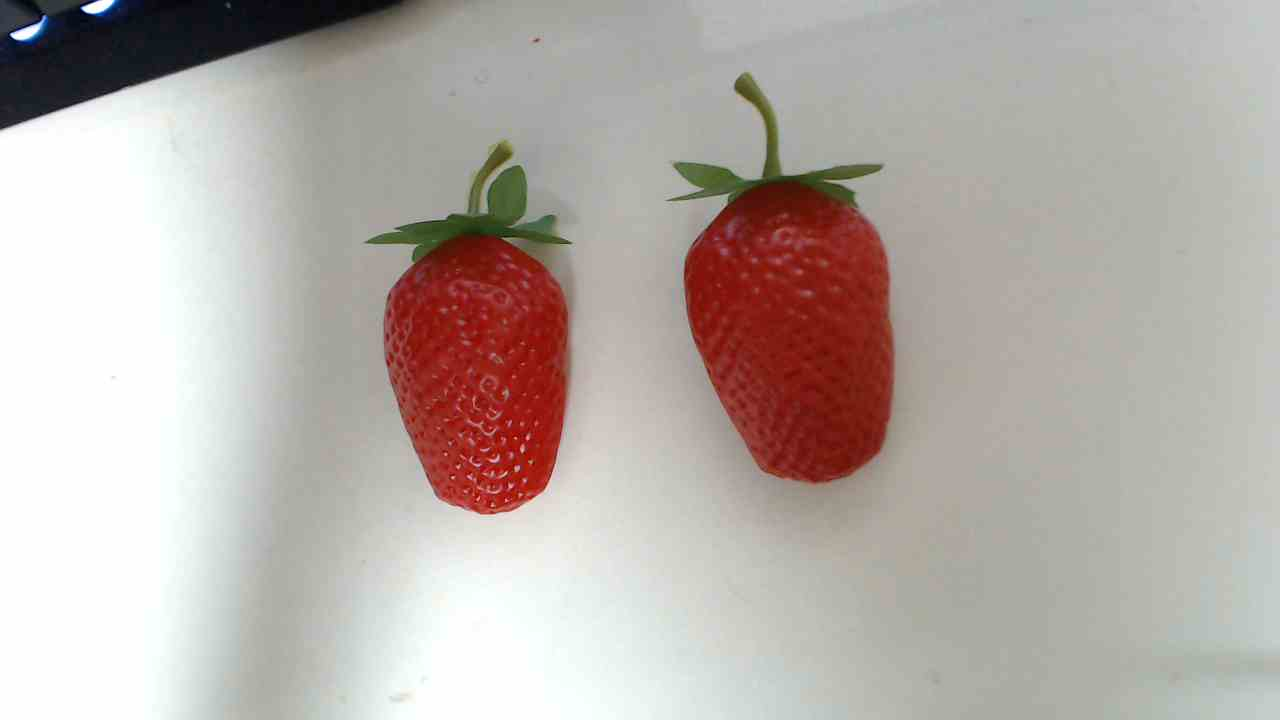strawberry: (676, 169, 901, 489), (376, 216, 580, 524)
